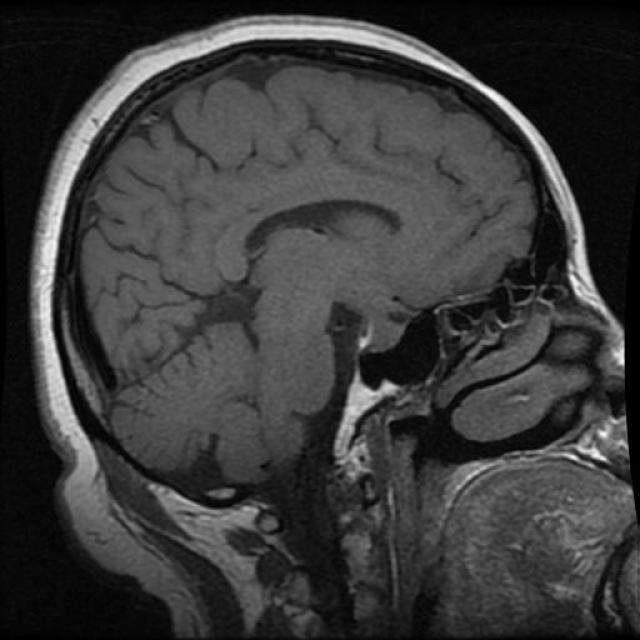pituitary: (324, 303, 432, 420)
